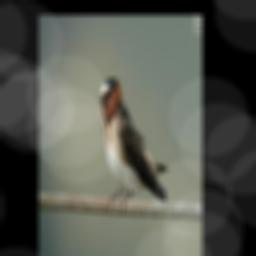Swallow: (97, 69, 169, 210)
